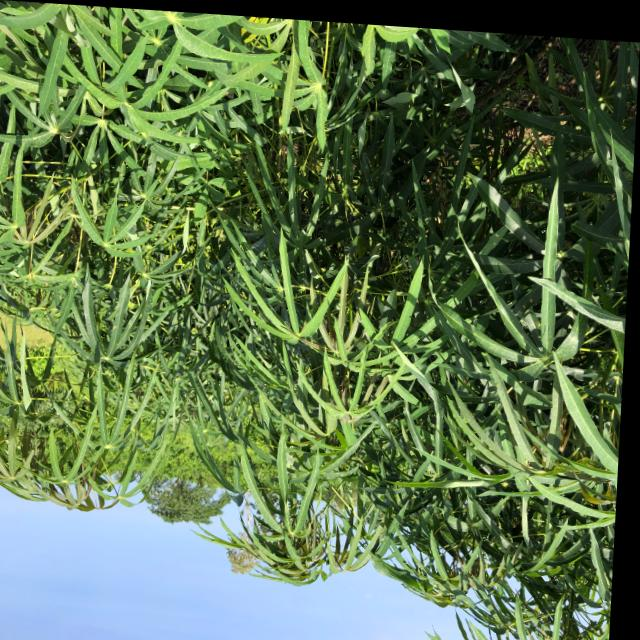Mosca: (60, 14, 87, 43), (200, 75, 219, 96), (68, 271, 85, 288), (49, 305, 65, 322), (40, 45, 53, 60)
